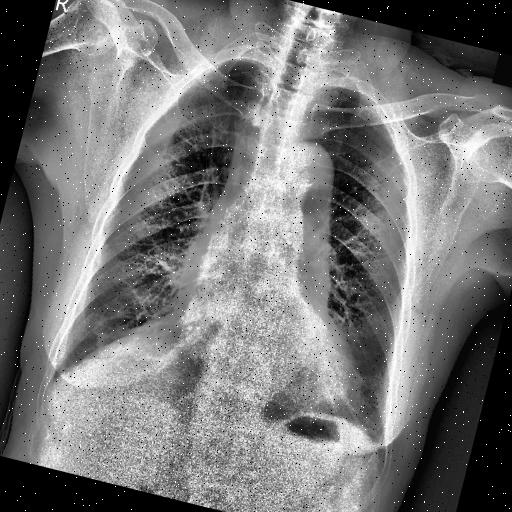0- Aortic enlargement: (270, 138, 348, 228), (271, 138, 345, 221), (266, 136, 344, 206)
11- Pleural thickening: (166, 44, 225, 106)
3- Cardiomegaly: (154, 279, 384, 423), (160, 288, 382, 420), (156, 292, 376, 424)
